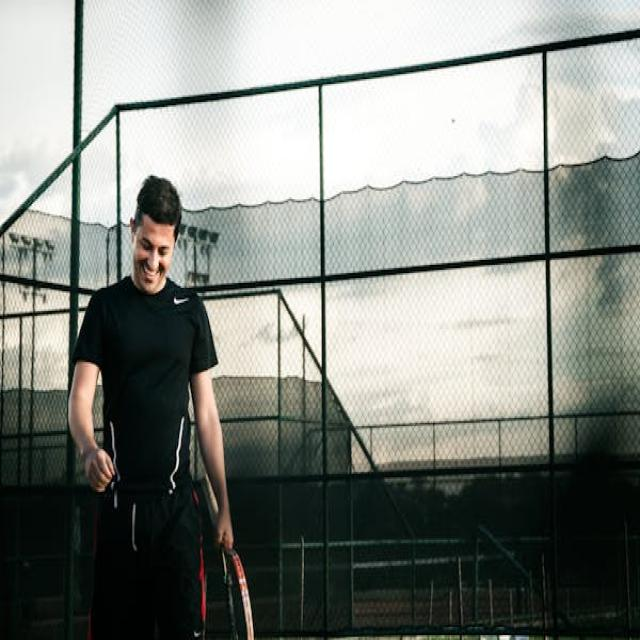Real human 2: (66, 165, 253, 640)
